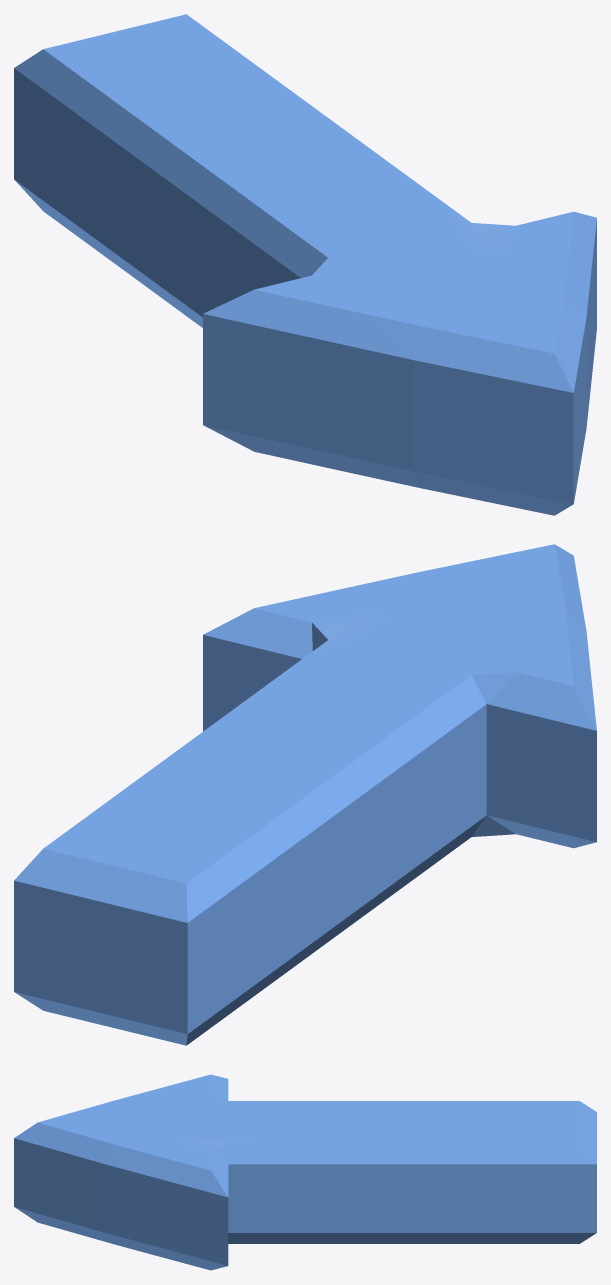
The model's file is arrow.dae.
The picture shows the model from 3 angles, top to bottom: view 1: azimuth 30°, elevation 25°; view 2: azimuth 150°, elevation 25°; view 3: azimuth 270°, elevation 25°; orthographic projection. The views are drawn at different scales.
Visible parts, largest first — view 1: Cube; view 2: Cube; view 3: Cube.
Part boxes in pixels (<box>): Cube: <box>14,14,596,515</box>; Cube: <box>14,544,596,1045</box>; Cube: <box>14,1074,596,1270</box>.
Bounding box in the file's own units: 2.84 × 5.91 × 1.12.
1 material, 1 textured.
